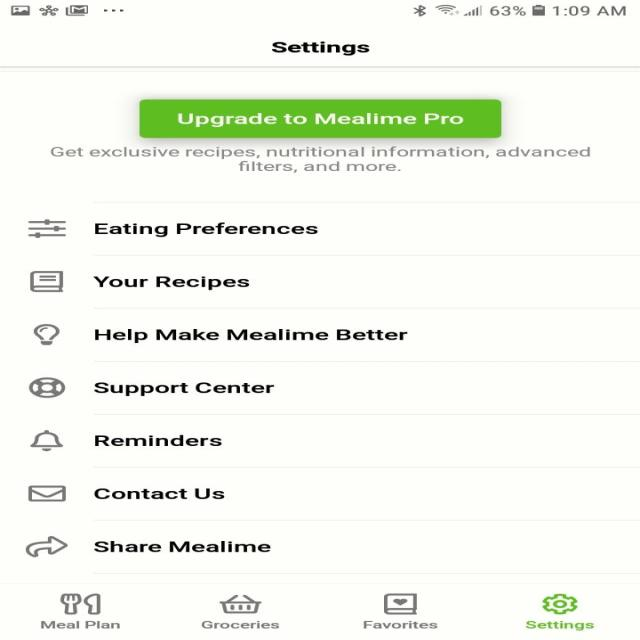Icon: (25, 535, 68, 557), (541, 593, 578, 615), (382, 592, 417, 614), (29, 270, 64, 292), (30, 429, 64, 451), (28, 219, 66, 238), (28, 484, 66, 502)
Image: (60, 592, 102, 614), (218, 594, 262, 613), (28, 377, 66, 398), (33, 323, 61, 345)
Text: (49, 146, 590, 173), (94, 328, 408, 343), (94, 221, 318, 237), (93, 381, 275, 396), (92, 276, 250, 290), (93, 540, 271, 552), (94, 434, 222, 446), (270, 41, 370, 56), (93, 488, 225, 498), (524, 620, 594, 631), (40, 620, 121, 629), (200, 620, 279, 629), (362, 620, 437, 629)
TextButton: (138, 99, 502, 138)
